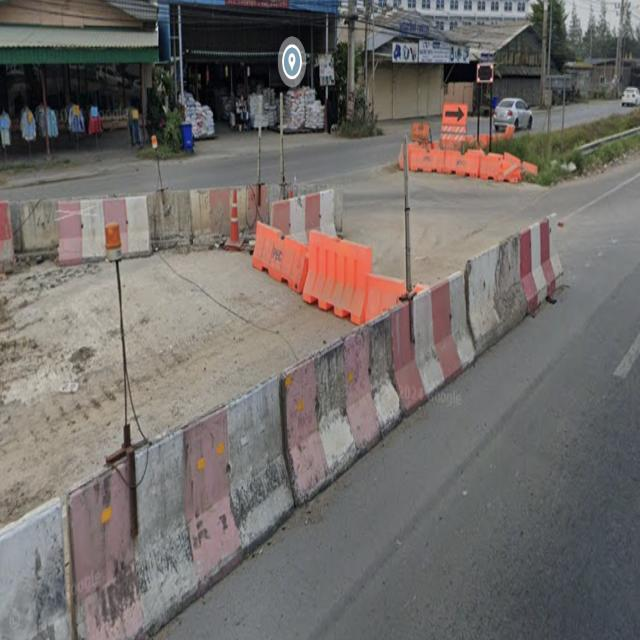fallen_object: (26, 378, 293, 637), (250, 319, 404, 499), (442, 199, 584, 355), (246, 207, 424, 320), (0, 464, 102, 640), (372, 270, 483, 420), (135, 169, 286, 257), (403, 125, 541, 194), (59, 175, 155, 266), (0, 165, 67, 272), (215, 172, 252, 256)
